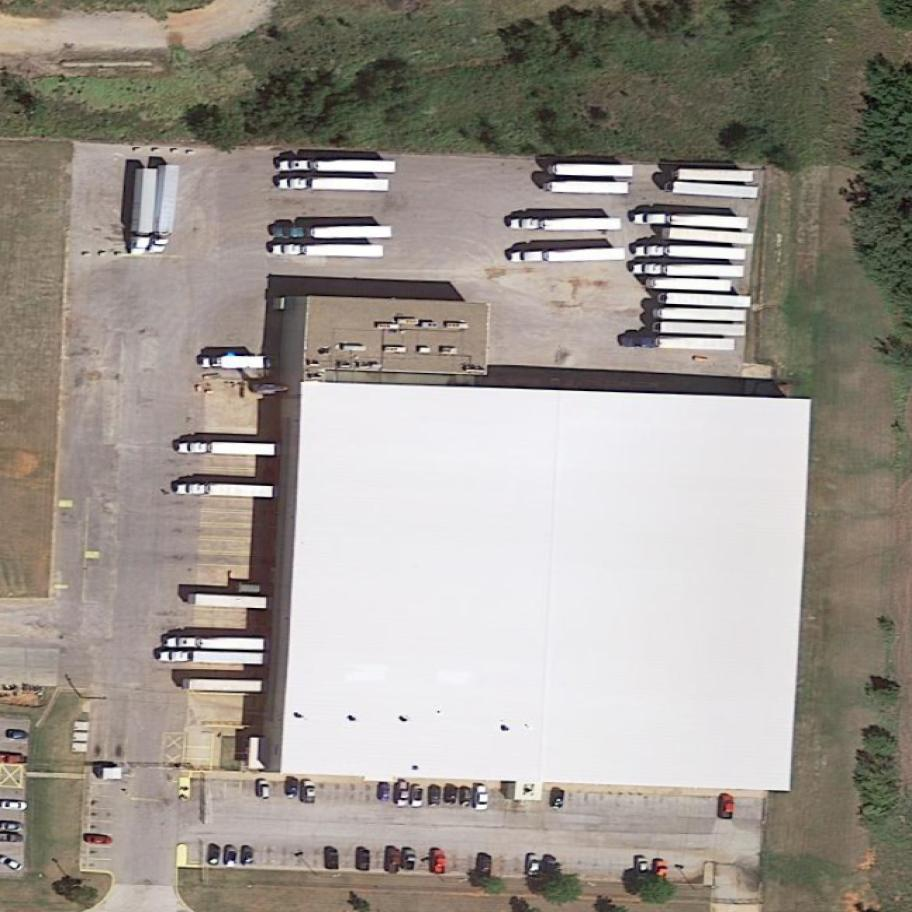large-vehicle: (132, 168, 158, 256), (619, 336, 737, 354), (510, 246, 626, 264), (631, 212, 749, 229), (158, 164, 180, 255), (632, 262, 745, 278), (175, 481, 279, 498), (636, 245, 746, 261), (158, 650, 267, 666), (270, 243, 386, 258), (279, 160, 397, 174), (162, 636, 270, 651), (509, 217, 623, 231), (279, 177, 390, 191), (270, 227, 393, 238), (176, 442, 279, 455), (202, 355, 277, 370)
small-vehicle: (402, 847, 421, 874), (431, 849, 448, 877), (473, 783, 490, 810), (719, 793, 736, 820), (300, 780, 318, 805), (443, 782, 460, 807), (525, 852, 542, 877), (325, 845, 342, 870), (395, 780, 410, 807), (479, 853, 494, 880), (411, 784, 427, 809), (428, 782, 443, 808), (83, 833, 113, 846), (654, 857, 670, 881), (224, 844, 239, 869), (551, 789, 567, 812), (285, 776, 301, 799), (387, 848, 401, 874), (542, 853, 557, 877), (207, 843, 222, 866), (460, 785, 474, 808), (241, 844, 255, 866), (356, 849, 370, 870), (638, 855, 650, 879), (6, 728, 30, 740), (259, 780, 273, 798)
